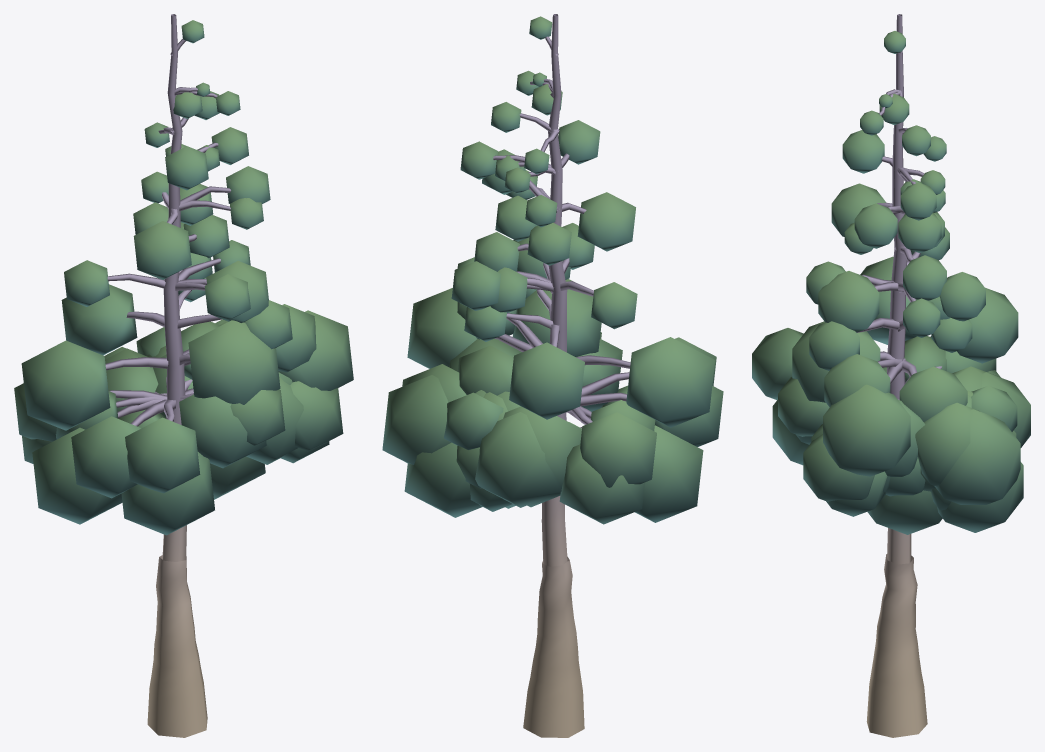
Rendered from seed_conifer_d.glb.
3 renders of one model, left to right at view 1: azimuth 30°, elevation 25°; view 2: azimuth 150°, elevation 25°; view 3: azimuth 270°, elevation 25°, orthographic.
Visible parts, largest first — view 1: seed_conifer_d_LOD0; view 2: seed_conifer_d_LOD0; view 3: seed_conifer_d_LOD0.
Part boxes in pixels (x1,y1,x2,y2): seed_conifer_d_LOD0: (14, 14, 353, 737); seed_conifer_d_LOD0: (382, 14, 723, 737); seed_conifer_d_LOD0: (752, 14, 1030, 737).
Size of what is drawn, in the model's own units: 4.93 by 10.87 by 3.87.
